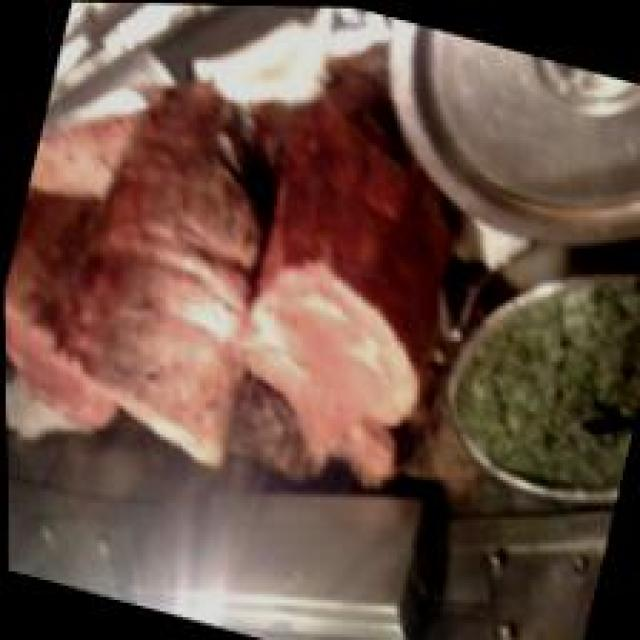Rib: (0, 34, 489, 569)
